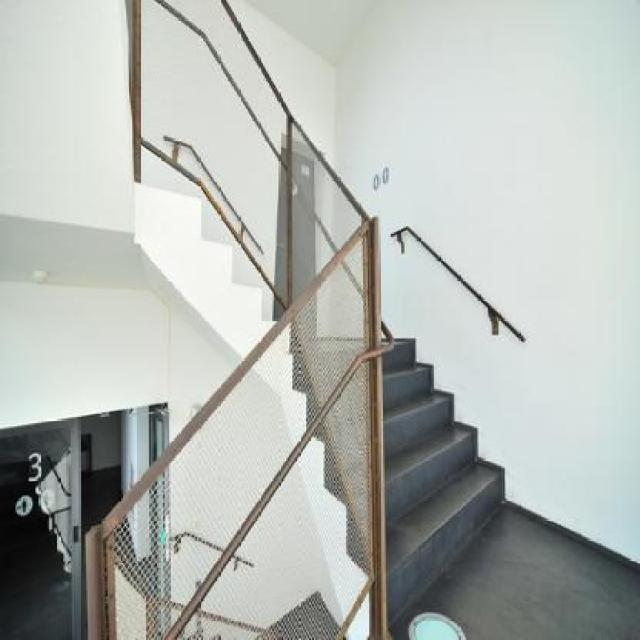stair: (298, 277, 577, 640)
